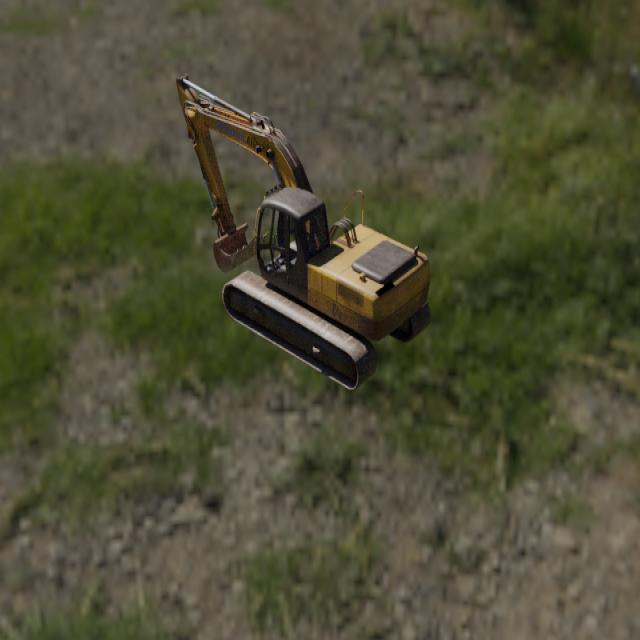excavator: (175, 73, 430, 391)
